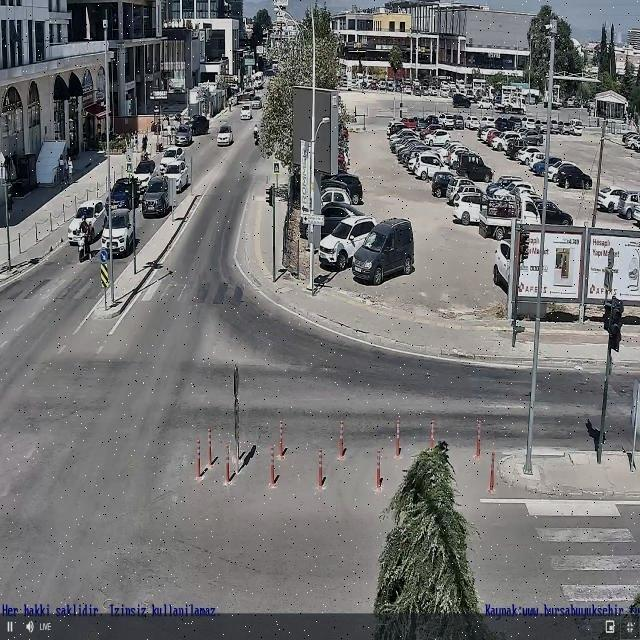Car: (317, 216, 378, 270), (478, 194, 542, 242), (67, 200, 106, 244), (105, 210, 138, 258), (141, 174, 174, 218), (457, 153, 495, 183), (330, 172, 364, 205), (106, 178, 140, 210), (492, 237, 512, 291), (534, 198, 574, 225), (452, 193, 484, 226), (412, 155, 452, 181), (163, 161, 191, 192), (556, 168, 593, 190), (321, 200, 365, 218), (488, 173, 524, 195), (445, 176, 475, 202), (130, 160, 156, 189), (428, 172, 458, 196), (407, 151, 442, 171), (594, 188, 624, 210), (448, 148, 479, 169), (547, 162, 581, 181), (491, 130, 521, 151), (161, 145, 186, 170), (617, 192, 640, 217), (494, 181, 536, 194), (534, 157, 562, 175), (424, 129, 452, 147), (186, 115, 211, 134), (517, 146, 543, 164), (174, 124, 193, 146), (518, 130, 545, 145), (217, 127, 235, 147), (529, 152, 549, 170), (438, 113, 454, 130), (624, 134, 640, 150), (237, 87, 256, 100), (480, 116, 497, 130), (464, 116, 480, 130), (402, 116, 416, 132), (240, 104, 253, 120), (558, 120, 571, 136), (522, 116, 536, 130), (476, 98, 493, 109), (453, 114, 464, 131), (508, 116, 522, 129), (631, 204, 640, 224), (538, 120, 549, 134), (496, 118, 508, 130), (426, 114, 438, 125), (252, 96, 262, 108), (551, 120, 559, 135), (418, 117, 427, 129)
Cycle: (74, 230, 91, 262), (252, 130, 261, 146)
Truck: (494, 95, 527, 115)
Van: (352, 219, 416, 284), (453, 94, 471, 108)
